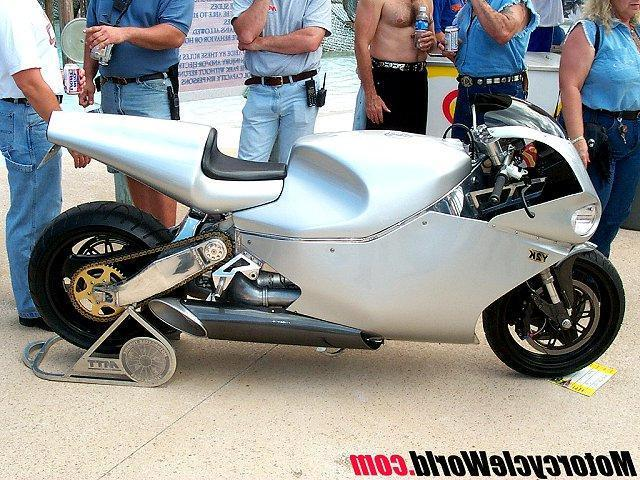motorcycle: (15, 61, 635, 391)
